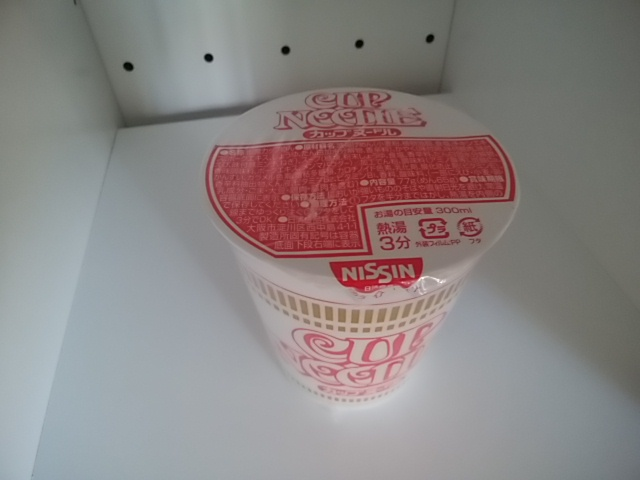cup-ramen: (192, 84, 527, 417)
